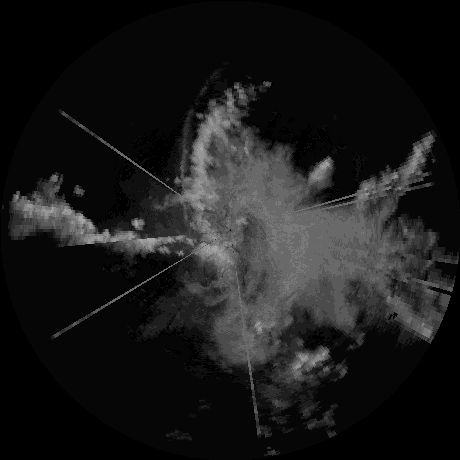frontgust: (178, 106, 195, 181)
